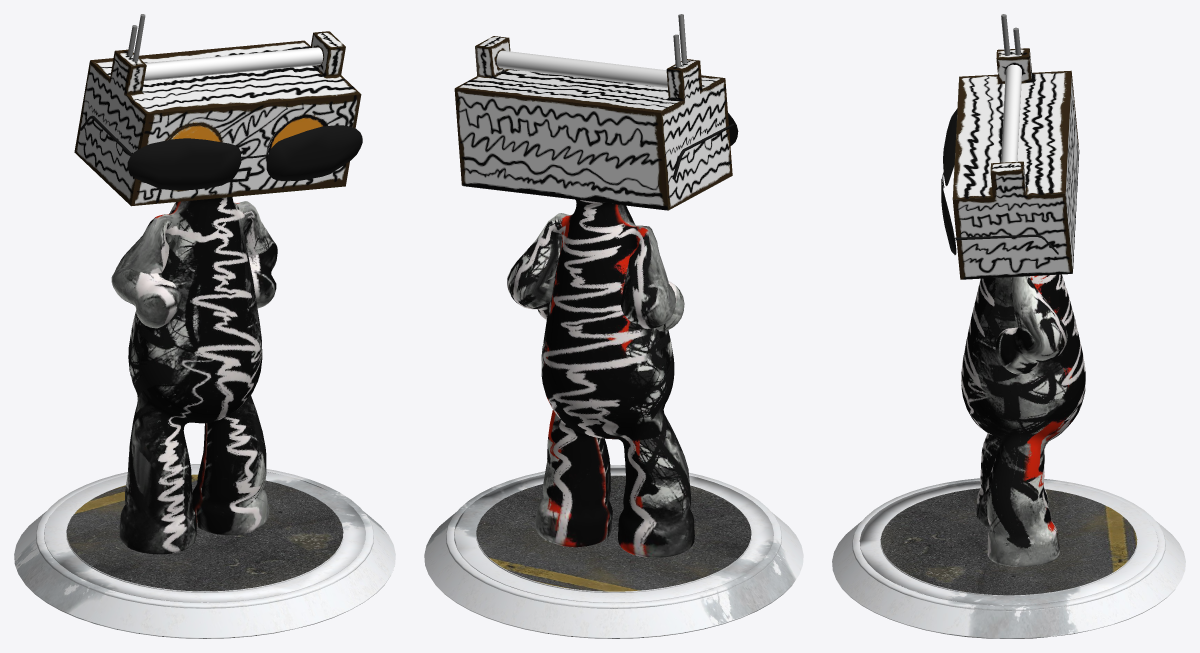
3 renders of one model, left to right at view 1: azimuth 30°, elevation 25°; view 2: azimuth 150°, elevation 25°; view 3: azimuth 270°, elevation 25°, orthographic. The views are drawn at different scales.
Parts seen in each view (by area): view 1: BBody; view 2: BBody; view 3: BBody.
Boxes of the visible parts, bbox=[...] form: BBody: bbox=[14, 14, 395, 638]; BBody: bbox=[424, 14, 803, 638]; BBody: bbox=[832, 14, 1185, 638].
Size of the model in its own units: 1.45 by 2.35 by 1.45.
Materials: 6 (4 with a texture image).
